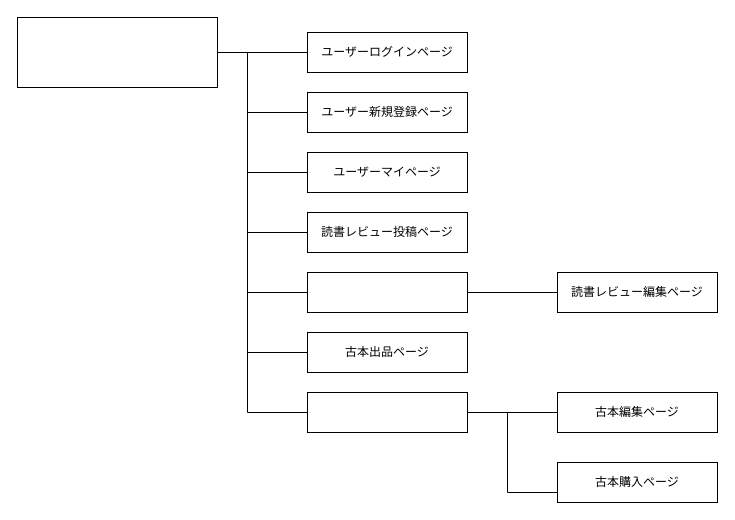
Some shapes in this 735 by 520 pixel diagram are drawn without their labels. Here are the shapes that lost their labels. From the top down, the centre of each, then its label:
At [117,52]: "一覧ページ （読書レビューと古本出品を並列）".
At [387,292]: "読書レビュー詳細ページ".
At [387,412]: "古本詳細ページ".
